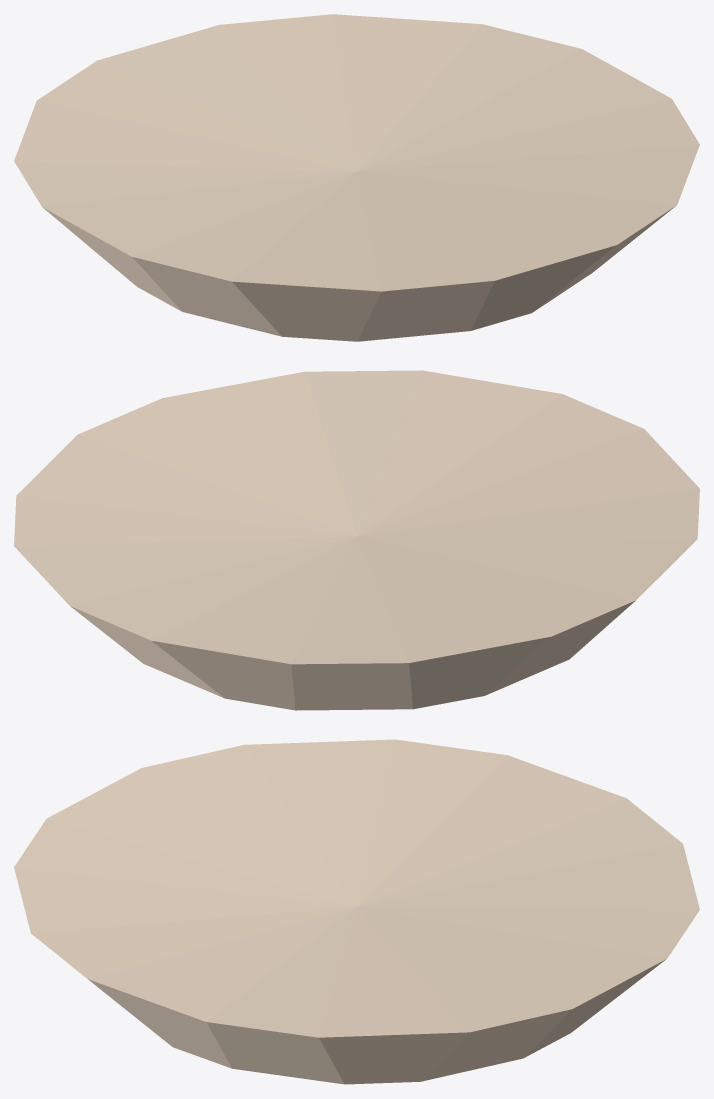
The model's file is bowl_empty.fbx.
3 views of the same model, one above another, from view 1: azimuth 30°, elevation 25°; view 2: azimuth 150°, elevation 25°; view 3: azimuth 270°, elevation 25° (orthographic).
Visible parts, largest first — view 1: plate; view 2: plate; view 3: plate.
Part boxes in pixels (x1,y1,x2,y2): plate: [14, 14, 699, 341]; plate: [14, 370, 699, 710]; plate: [14, 739, 699, 1084].
Size of the model in its own units: 78.75 by 12.66 by 78.75.
